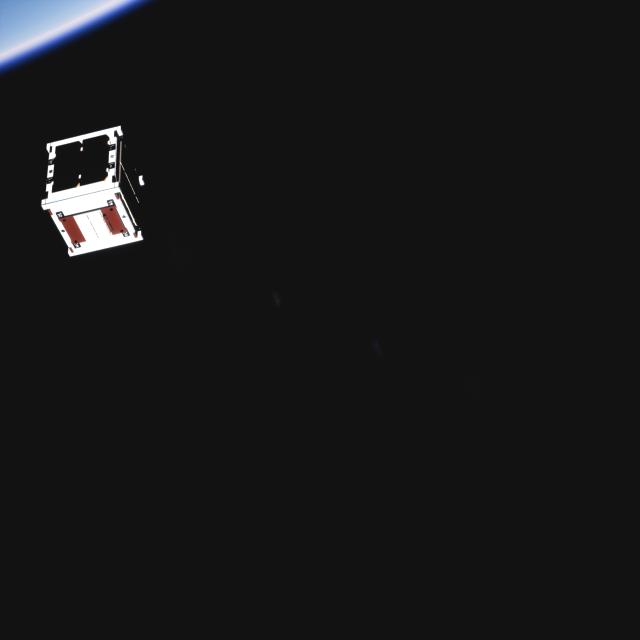satellite: (41, 115, 158, 258)
